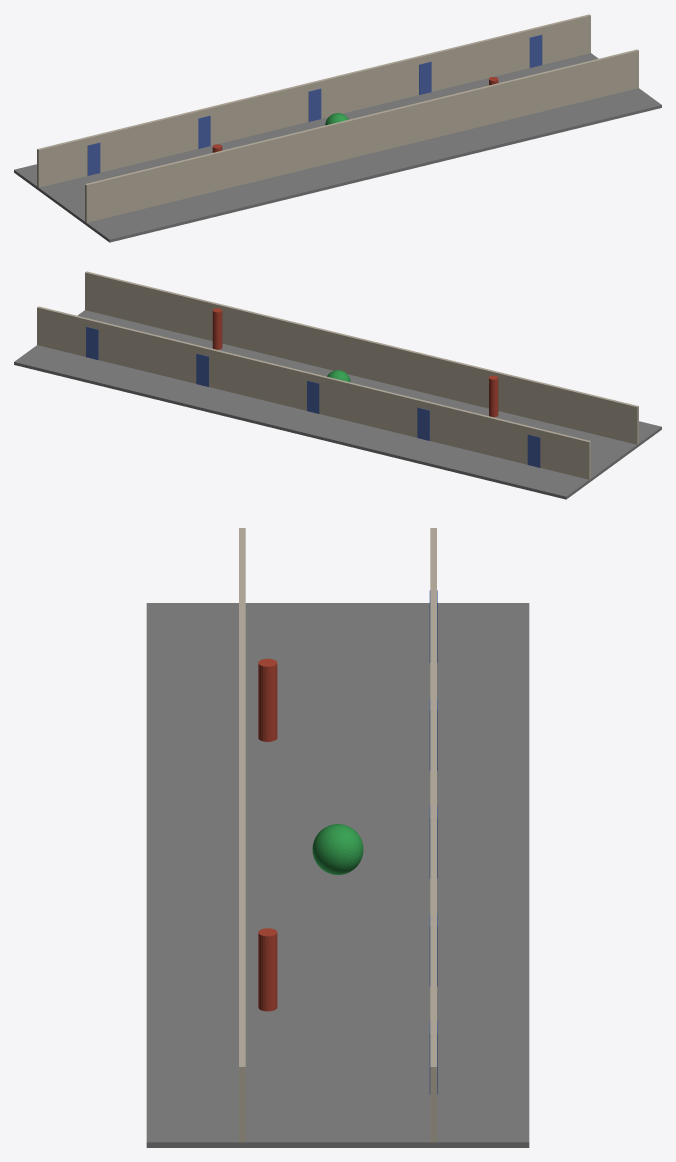
Rendered from handmade_ascii.fbx.
3 renders of one model, top to bottom at view 1: azimuth 30°, elevation 25°; view 2: azimuth 150°, elevation 25°; view 3: azimuth 270°, elevation 25°, orthographic. The views are drawn at different scales.
Visible parts, largest first — view 1: corridor; view 2: corridor; view 3: corridor.
Boxes of the visible parts, x1,y1,x2,y2 form: corridor: [14, 14, 661, 242]; corridor: [14, 271, 661, 499]; corridor: [146, 528, 529, 1147].
Bounding box in the file's own units: 40 × 12 × 2.8.
